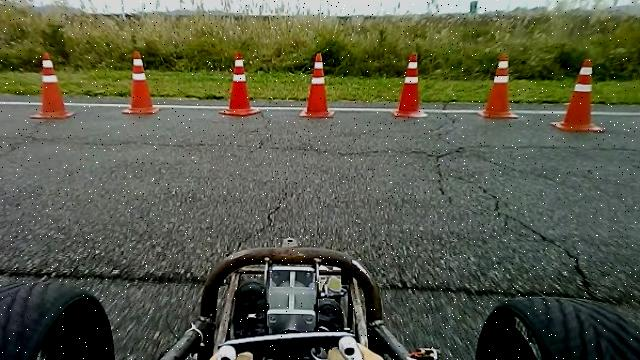red cone: (550, 58, 606, 132), (30, 51, 77, 119), (219, 50, 262, 116), (478, 52, 519, 118), (122, 50, 161, 114), (300, 50, 336, 118), (392, 51, 429, 117)
